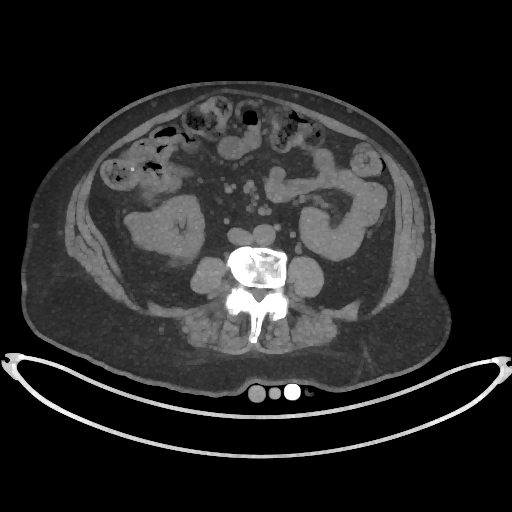Lesion: (121, 210, 173, 254)
